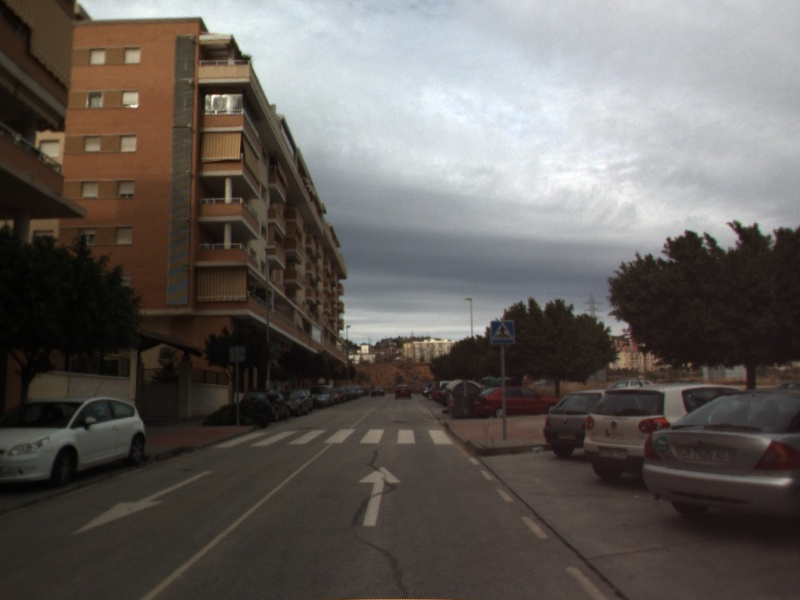STRAIGHT: (355, 464, 404, 529)
